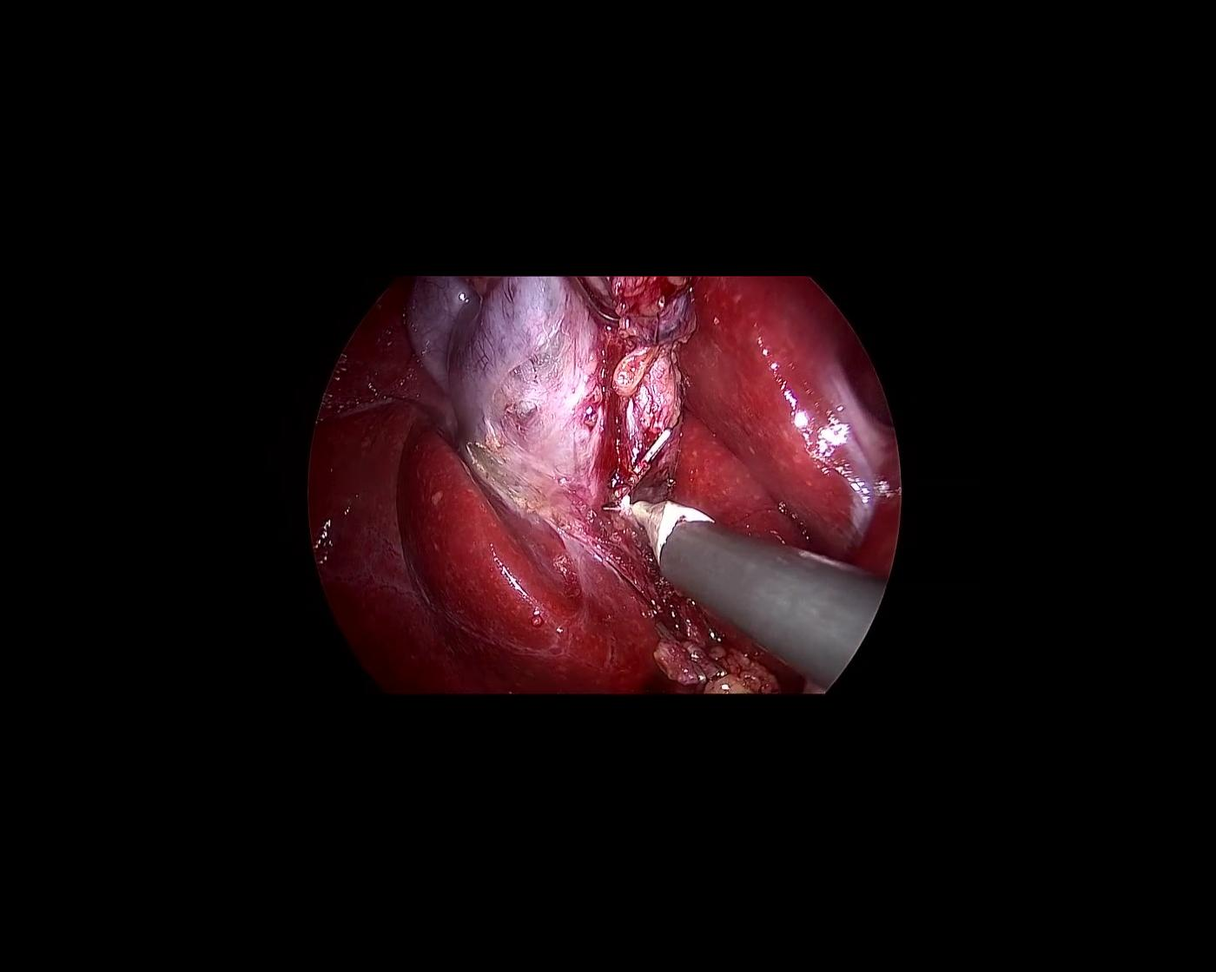Cautery: (569, 477, 888, 698)
Forceps: (563, 258, 631, 337)
Gallbladder: (406, 275, 604, 523)
Liver: (203, 278, 683, 809), (673, 277, 899, 578)
